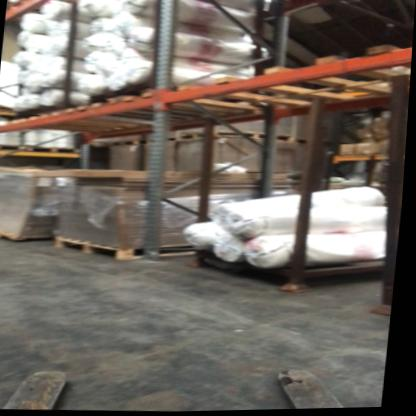vertical_damage: (140, 242, 173, 265)
